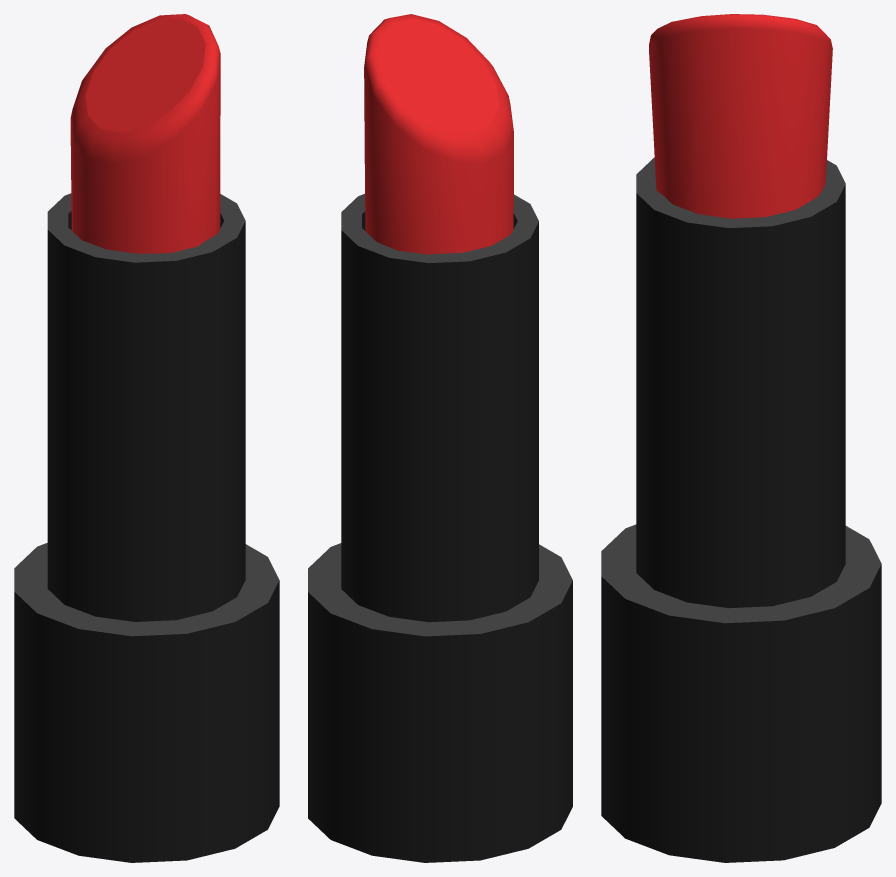
The model's file is lipstick_1.fbx.
3 renders of one model, left to right at view 1: azimuth 30°, elevation 25°; view 2: azimuth 150°, elevation 25°; view 3: azimuth 270°, elevation 25°, orthographic. The views are drawn at different scales.
Parts seen in each view (by area): view 1: lipstick 1; view 2: lipstick 1; view 3: lipstick 1.
Boxes of the visible parts, x1,y1,x2,y2 form: lipstick 1: (14, 14, 279, 862); lipstick 1: (308, 14, 572, 862); lipstick 1: (601, 14, 881, 862).
Size of the model in its own units: 0.6239 by 2 by 0.6205.
